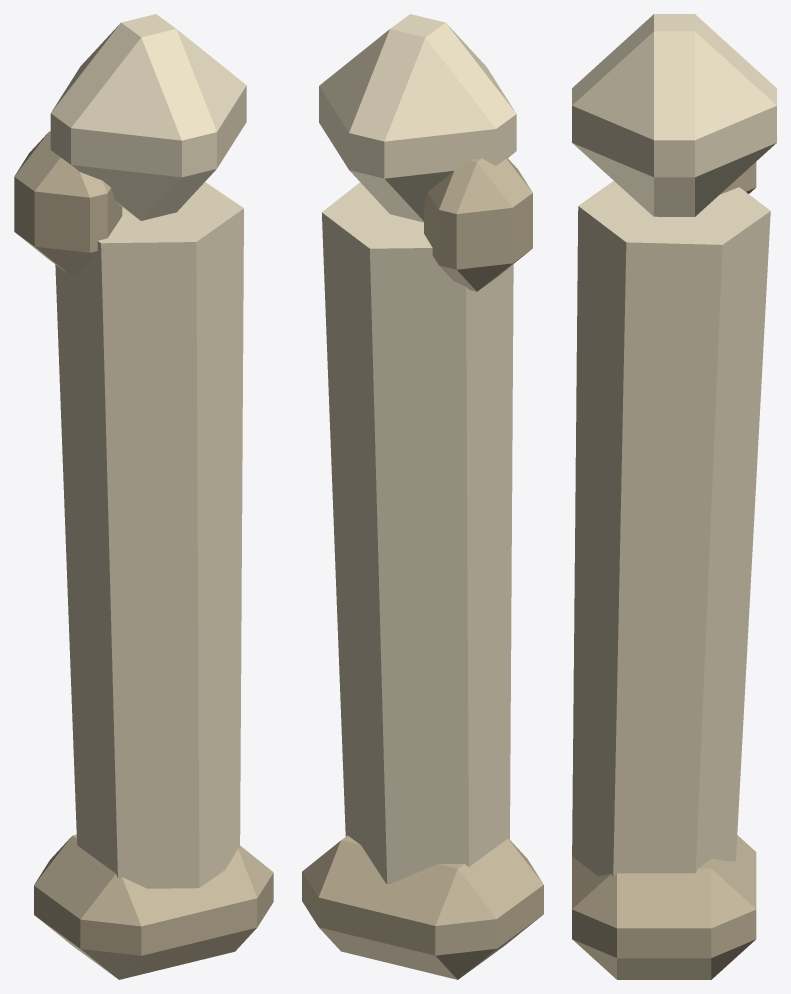
The model's file is gamba_sopra.glb.
3 renders of one model, left to right at view 1: azimuth 30°, elevation 25°; view 2: azimuth 150°, elevation 25°; view 3: azimuth 270°, elevation 25°, orthographic.
Visible parts, largest first — view 1: gamba_sopra2; view 2: gamba_sopra2; view 3: gamba_sopra2.
Part boxes in pixels (x1,y1,x2,y2): gamba_sopra2: [14, 14, 273, 979]; gamba_sopra2: [302, 14, 543, 979]; gamba_sopra2: [572, 14, 776, 979].
Size of the model in its own units: 0.12 by 0.5 by 0.1.
